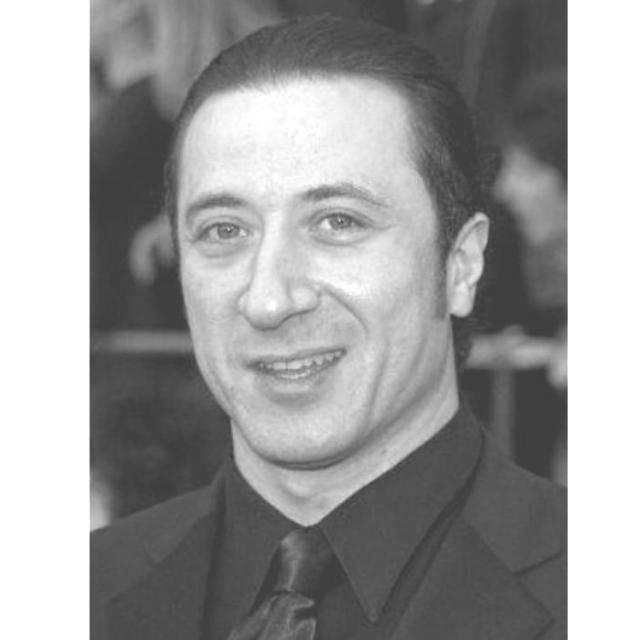real: (167, 72, 493, 468)
